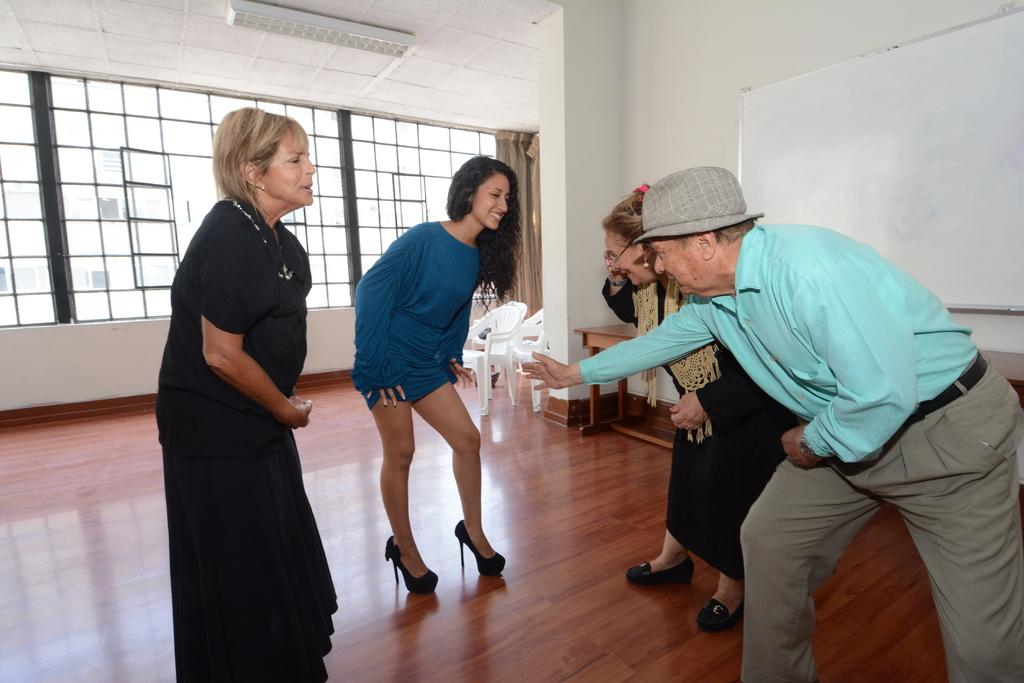Hat: (617, 162, 767, 262)
